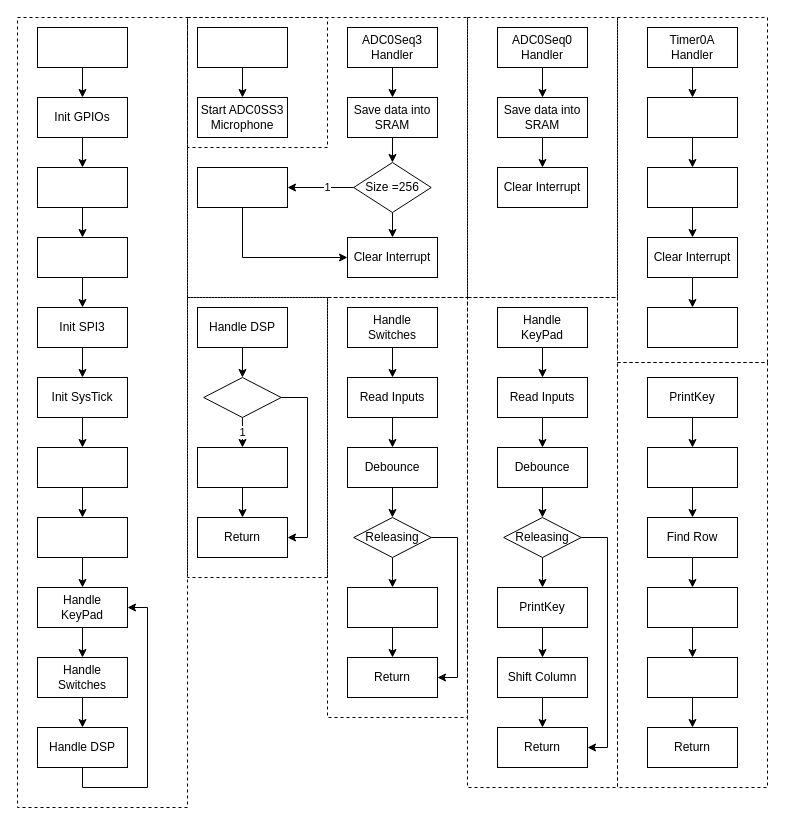
Image size: 785x825. Some labels were removed from this diagram. The shapes that lost their labels are listed below. From the top down, each one's centre as x and y in pixels, then its label:
At (82,47): "Init SRAM".
At (242,47): "SysTick Handler".
At (692,117): "Load the direction".
At (82,187): "Init ADC0".
At (242,187): "Set Data Ready Flag".
At (692,187): "Shift Steps".
At (82,257): "Init Timer0".
At (692,327): "Enable Timer0A".
At (242,397): "ReadyFlag".
At (82,467): "Init Nokia5110".
At (242,467): "Apply CMSIS DSP FFT".
At (692,467): "Find Column".
At (82,537): "Enable Interrupts".
At (392,607): "Update Flags".
At (692,607): "Calculate ID".
At (692,677): "Print corresponding ID".
